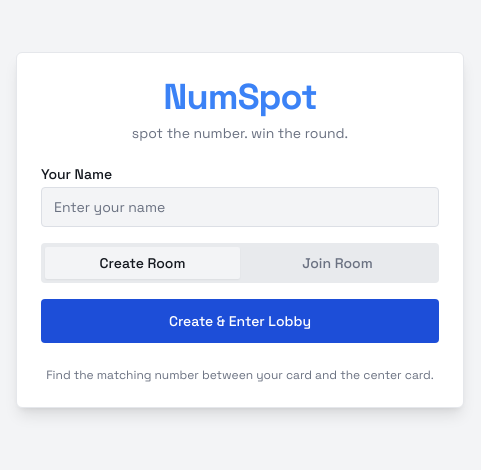
Home page › shows room code input when Join Room tab is selected
Expected: the field labelled "Room Code" is not shown
Click the tab "Join Room": (338, 263) [240, 247, 435, 279]
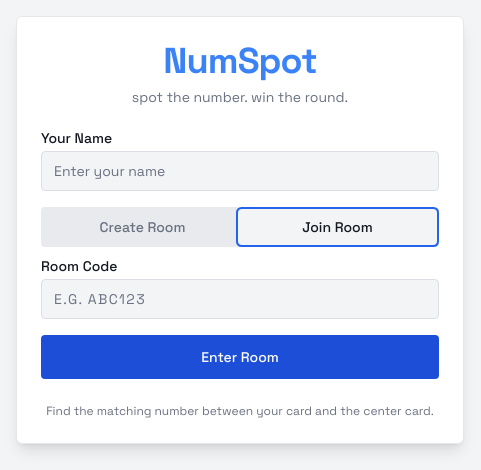
Expected: the field labelled "Room Code" is shown, [41, 279, 439, 319]
